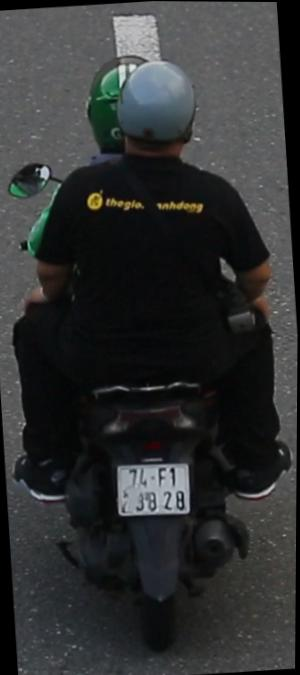LP: (109, 446, 203, 523)
helmet: (111, 52, 204, 179), (82, 38, 163, 153)
